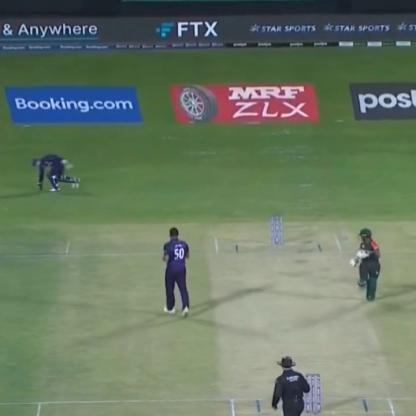ball: (35, 184, 42, 192)
pitch: (187, 218, 413, 415)
